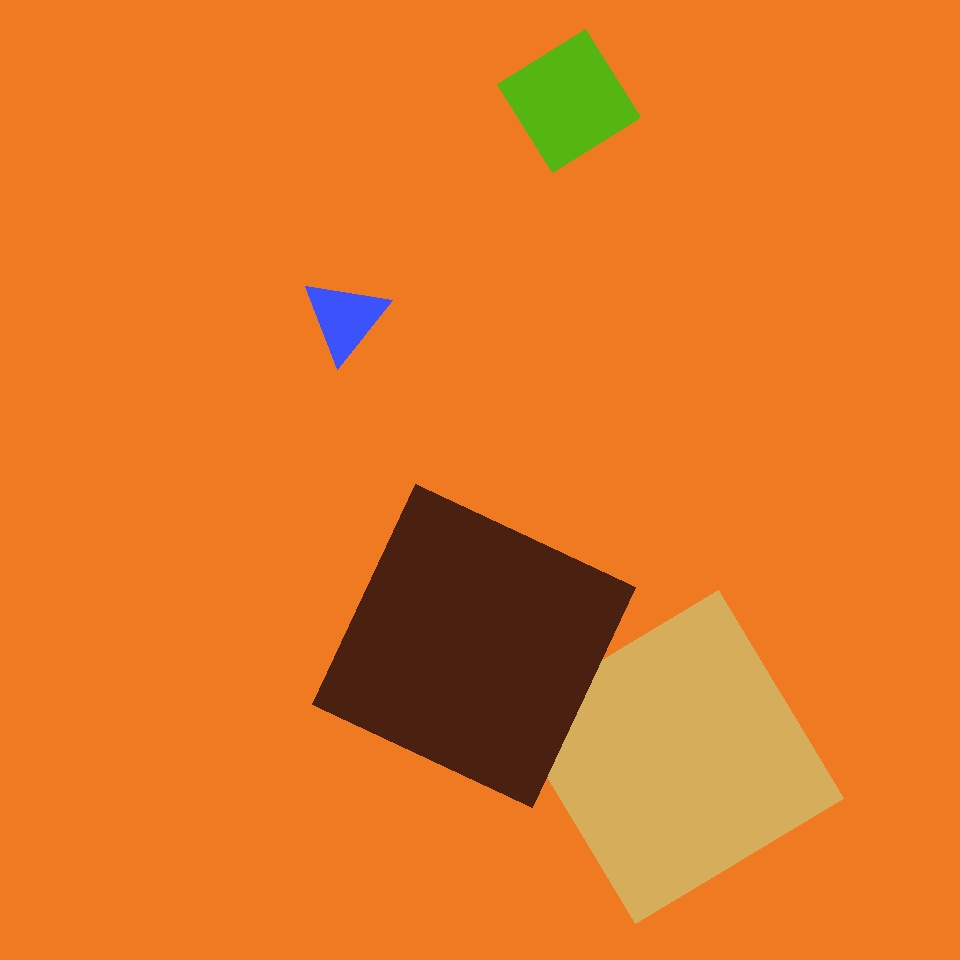circle: (506, 332, 784, 651), (701, 287, 862, 462), (494, 65, 623, 207), (302, 278, 388, 360)
square: (510, 590, 844, 924), (313, 485, 636, 808), (72, 458, 312, 698), (497, 30, 640, 172)
triangle: (565, 216, 882, 533), (565, 347, 802, 583)
